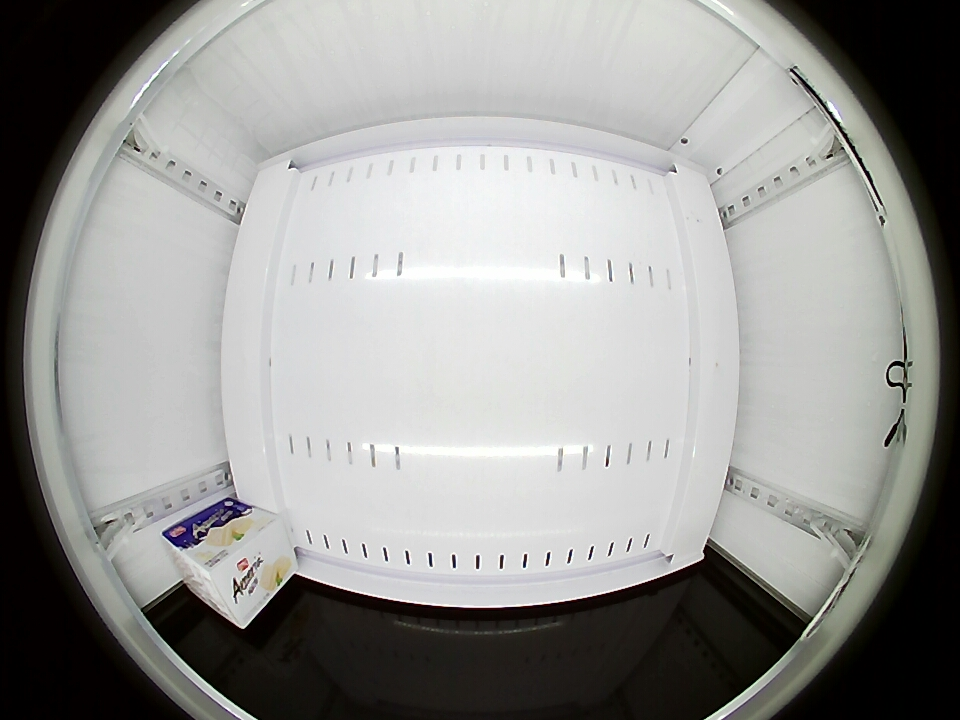meiniye: (164, 520, 266, 630)
